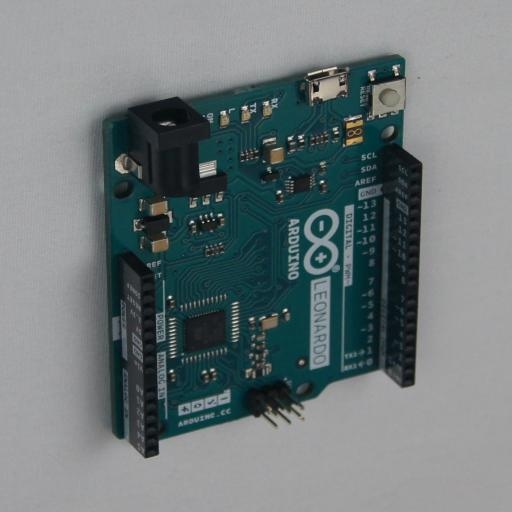Arduino Leonardo: (93, 54, 422, 458)
